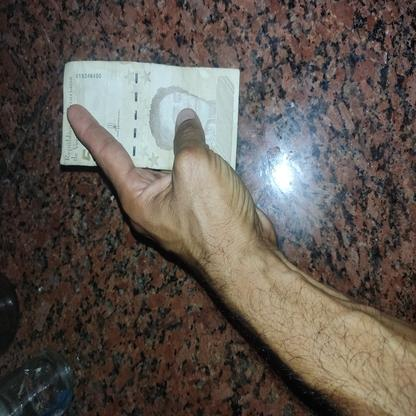vef_front: (60, 59, 240, 173)
